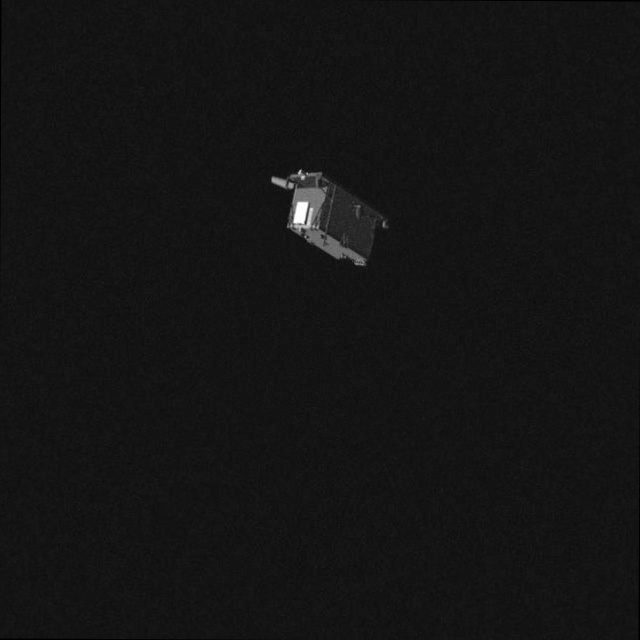satellite: (262, 168, 391, 270)
